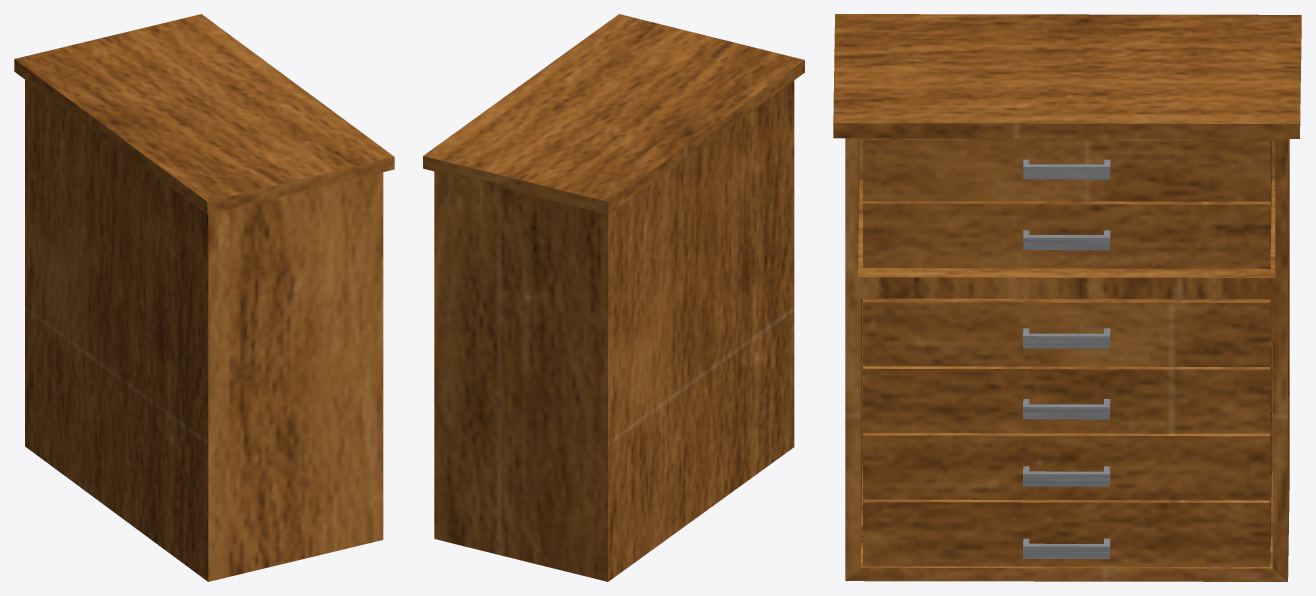
The model's file is cabinet1.fbx.
3 views of the same model, side by side, from view 1: azimuth 30°, elevation 25°; view 2: azimuth 150°, elevation 25°; view 3: azimuth 270°, elevation 25° (orthographic). The views are drawn at different scales.
Parts seen in each view (by area): view 1: pCube815.001; view 2: pCube815.001; view 3: pCube815.001.
Part boxes in pixels (bbox=[...]): pCube815.001: bbox=[14, 14, 394, 581]; pCube815.001: bbox=[423, 14, 804, 581]; pCube815.001: bbox=[833, 14, 1301, 581].
Bounding box in the file's own units: 0.5318 × 1.01 × 0.9244.
2 materials, 2 textured.
